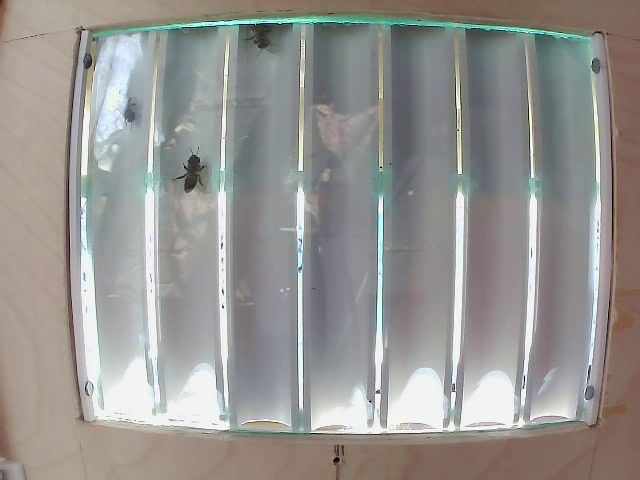bee: (248, 13, 284, 61), (173, 147, 205, 192), (117, 88, 149, 129)
